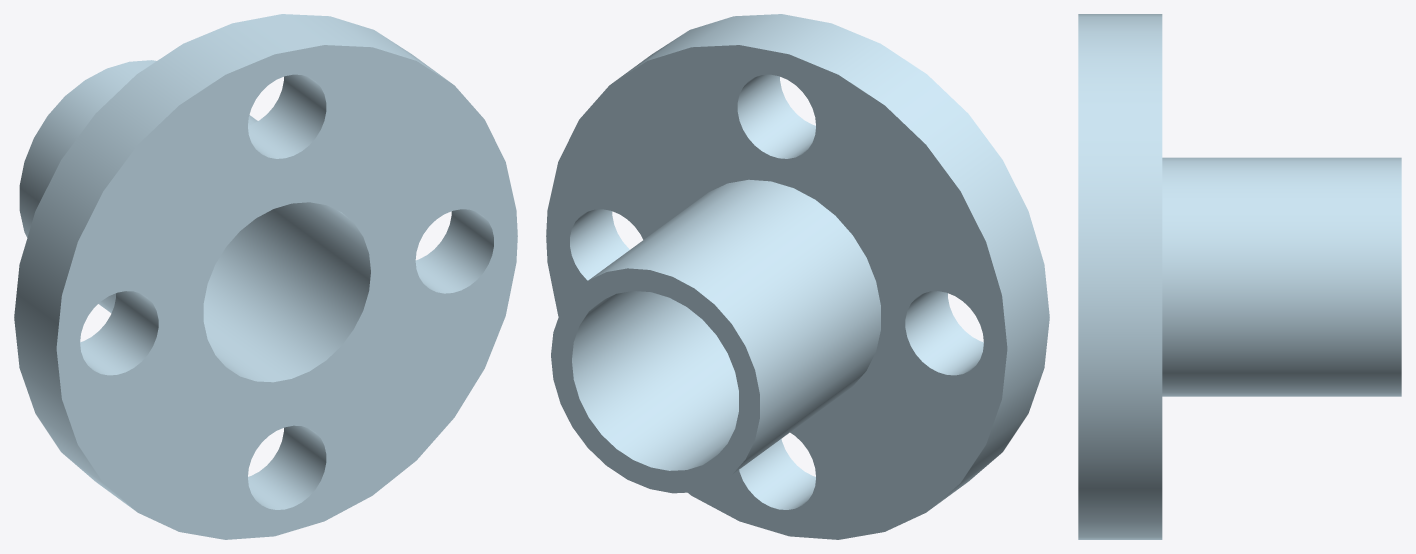
File: PLACEHOLDER_Lead_Screw_Brass_Nut.gltf
3 renders of one model, left to right at view 1: azimuth 30°, elevation 25°; view 2: azimuth 150°, elevation 25°; view 3: azimuth 270°, elevation 25°, orthographic.
Visible parts, largest first — view 1: mesh32581, mesh32580, mesh32589, mesh32587, mesh32582, mesh32585, mesh32584, mesh32583; view 2: mesh32586, mesh32587, mesh32580, mesh32589, mesh32588, mesh32585, mesh32584, mesh32583, mesh32582; view 3: mesh32587, mesh32580.
Boxes of the visible parts, bbox=[...] form: mesh32581: bbox=[56, 45, 517, 539]; mesh32580: bbox=[14, 14, 451, 510]; mesh32589: bbox=[203, 202, 370, 382]; mesh32587: bbox=[19, 60, 257, 313]; mesh32582: bbox=[415, 209, 493, 293]; mesh32585: bbox=[248, 74, 326, 158]; mesh32584: bbox=[80, 291, 158, 375]; mesh32583: bbox=[248, 425, 326, 509]; mesh32586: bbox=[546, 45, 1007, 539]; mesh32587: bbox=[589, 179, 880, 474]; mesh32580: bbox=[612, 14, 1049, 510]; mesh32589: bbox=[572, 291, 738, 470]; mesh32588: bbox=[551, 268, 759, 493]; mesh32585: bbox=[737, 74, 815, 158]; mesh32584: bbox=[905, 291, 983, 375]; mesh32583: bbox=[739, 439, 815, 509]; mesh32582: bbox=[570, 209, 629, 280]; mesh32587: bbox=[1162, 157, 1401, 396]; mesh32580: bbox=[1078, 14, 1162, 539].
Size of the model in its own units: 0.022 by 0.022 by 0.0135.
